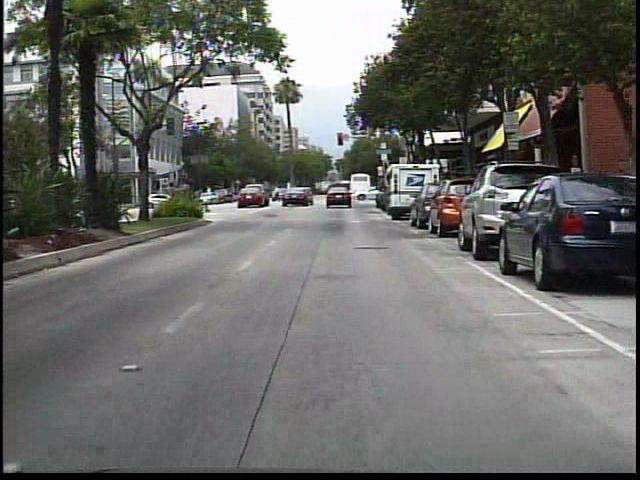person: (270, 181, 284, 205), (286, 183, 300, 205)
